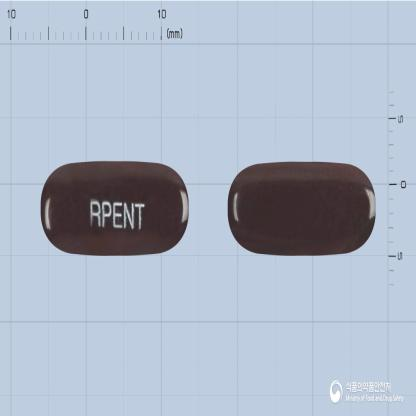pill: (39, 159, 190, 257), (227, 161, 377, 256)
